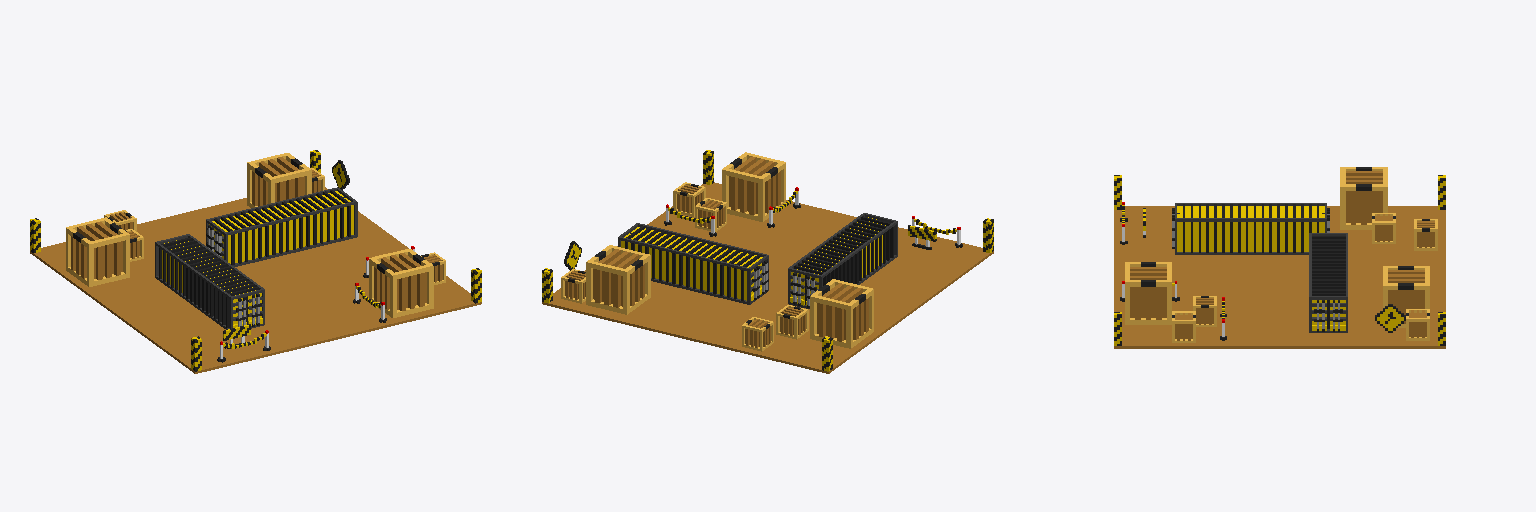
3 renders of one model, left to right at view 1: azimuth 30°, elevation 25°; view 2: azimuth 150°, elevation 25°; view 3: azimuth 270°, elevation 25°, orthographic.
Bounding box in the file's own units: 126 × 19 × 126.
Materials: 1 (1 with a texture image).